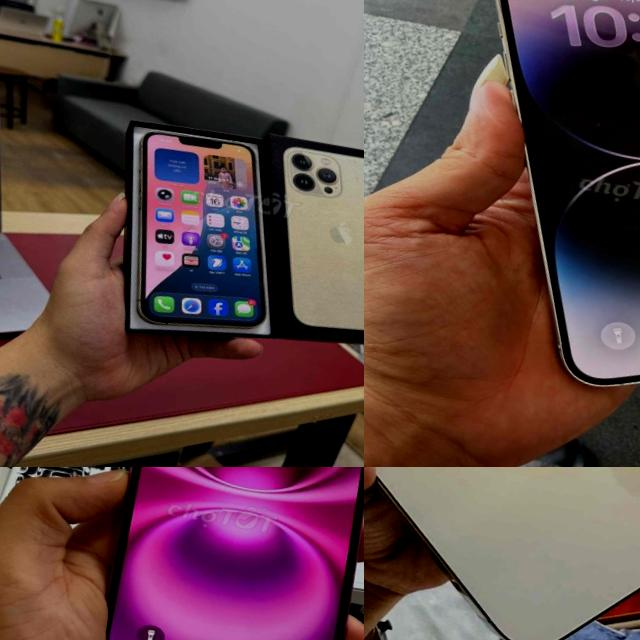gen_12_13: (110, 121, 296, 343)
gen_14: (422, 0, 640, 430), (364, 467, 640, 640)
gen_16: (83, 467, 364, 640)
